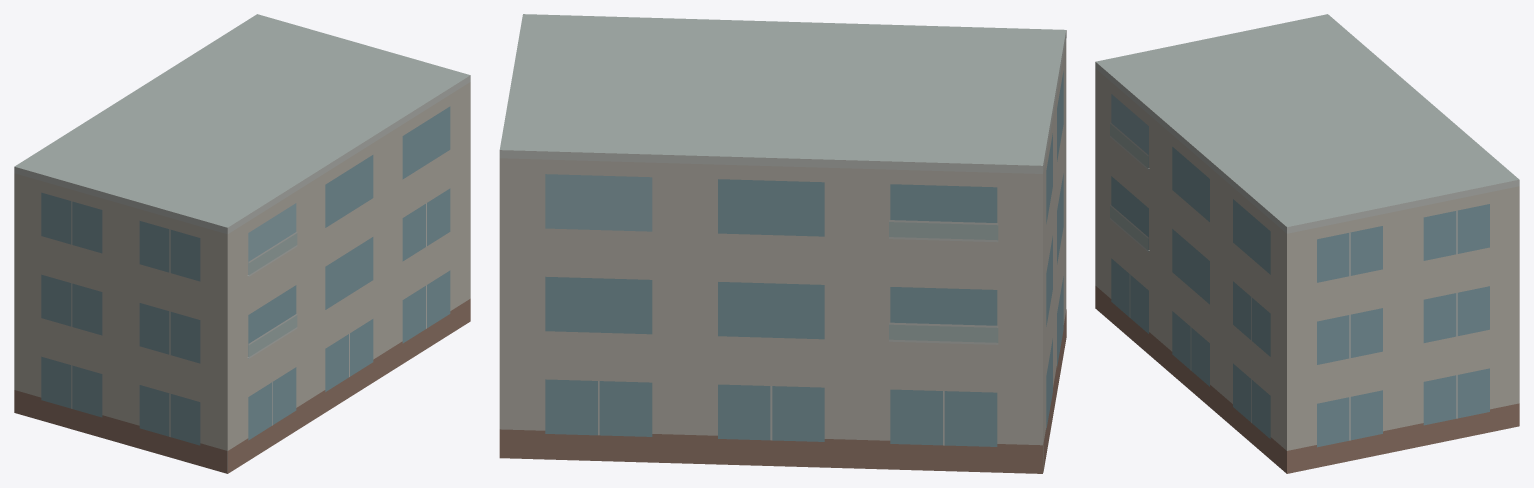
File: survey-upis-32705593.glb
3 renders of one model, left to right at view 1: azimuth 30°, elevation 25°; view 2: azimuth 150°, elevation 25°; view 3: azimuth 270°, elevation 25°, orthographic. The views are drawn at different scales.
Parts seen in each view (by area): view 1: survey-upis-32705593.tmp; view 2: survey-upis-32705593.tmp; view 3: survey-upis-32705593.tmp.
Part boxes in pixels (x1,y1,x2,y2): survey-upis-32705593.tmp: (14, 14, 470, 473); survey-upis-32705593.tmp: (499, 14, 1066, 473); survey-upis-32705593.tmp: (1095, 14, 1519, 473).
Bounding box in the file's own units: 16.97 × 9.15 × 14.27.
